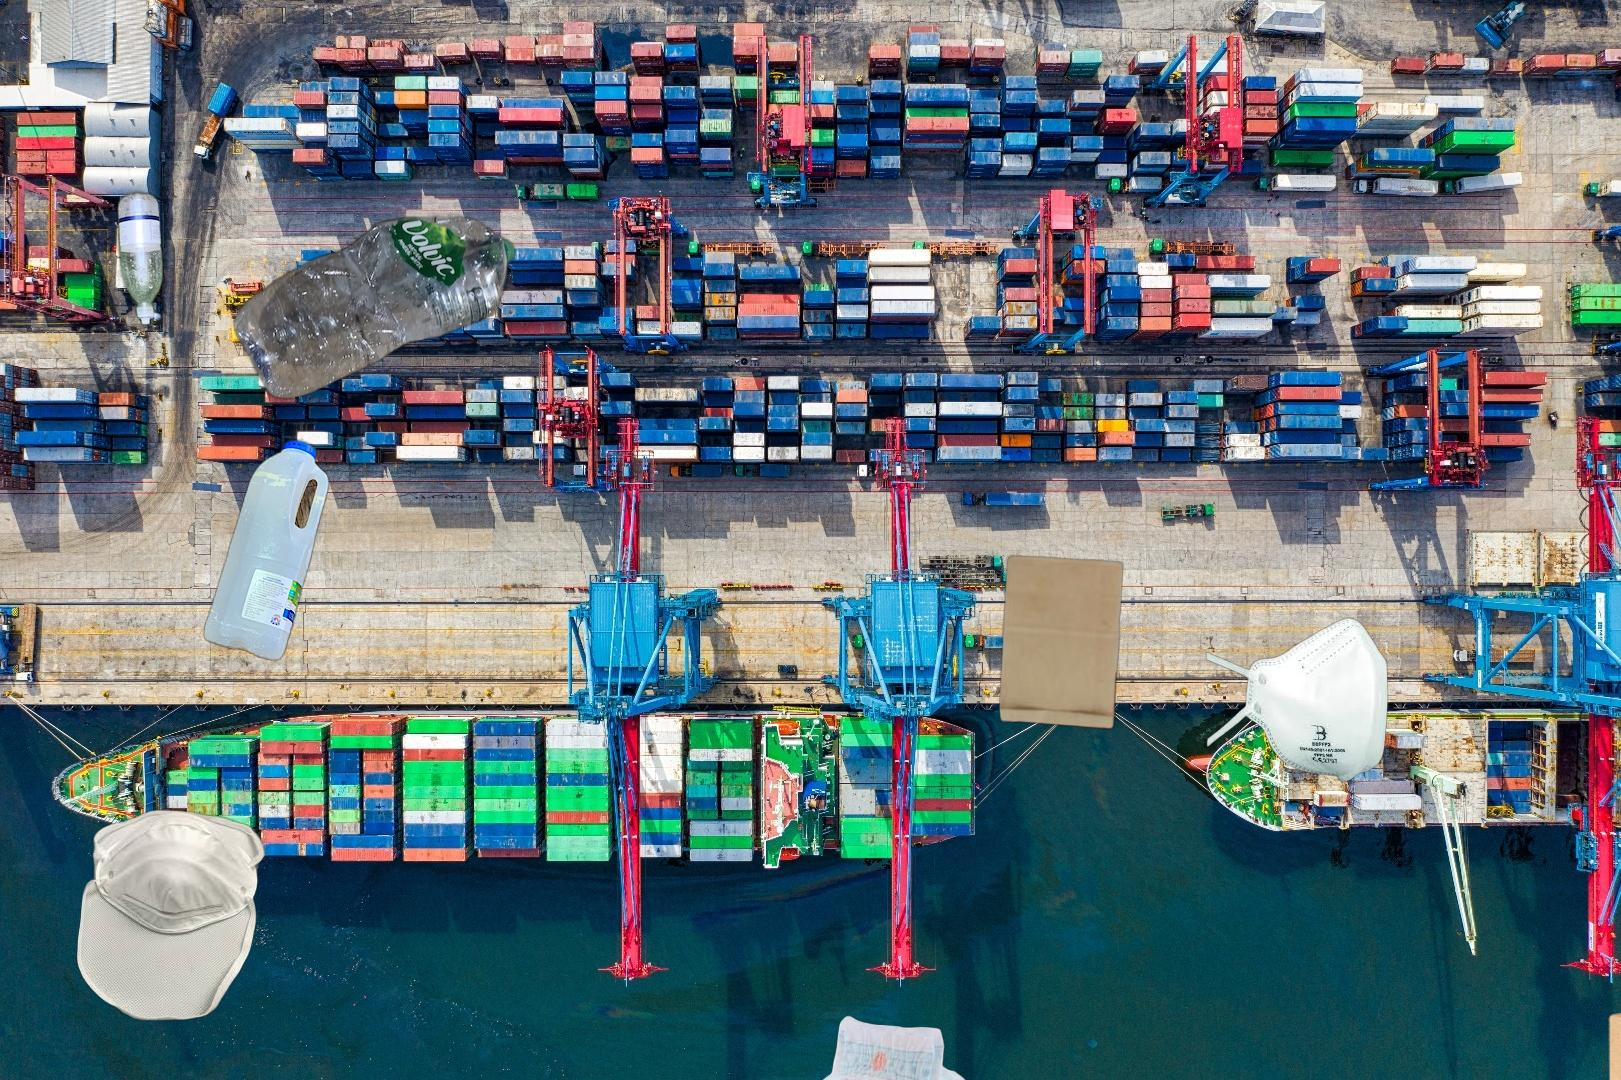paper-bag: (995, 553, 1126, 732)
plastic-bottles: (229, 211, 519, 403), (199, 435, 334, 667), (113, 187, 168, 331)
trash: (74, 808, 268, 1025), (1203, 615, 1391, 785), (793, 1012, 983, 1080)
trashbox-cardboard: (1603, 990, 1621, 1080)
